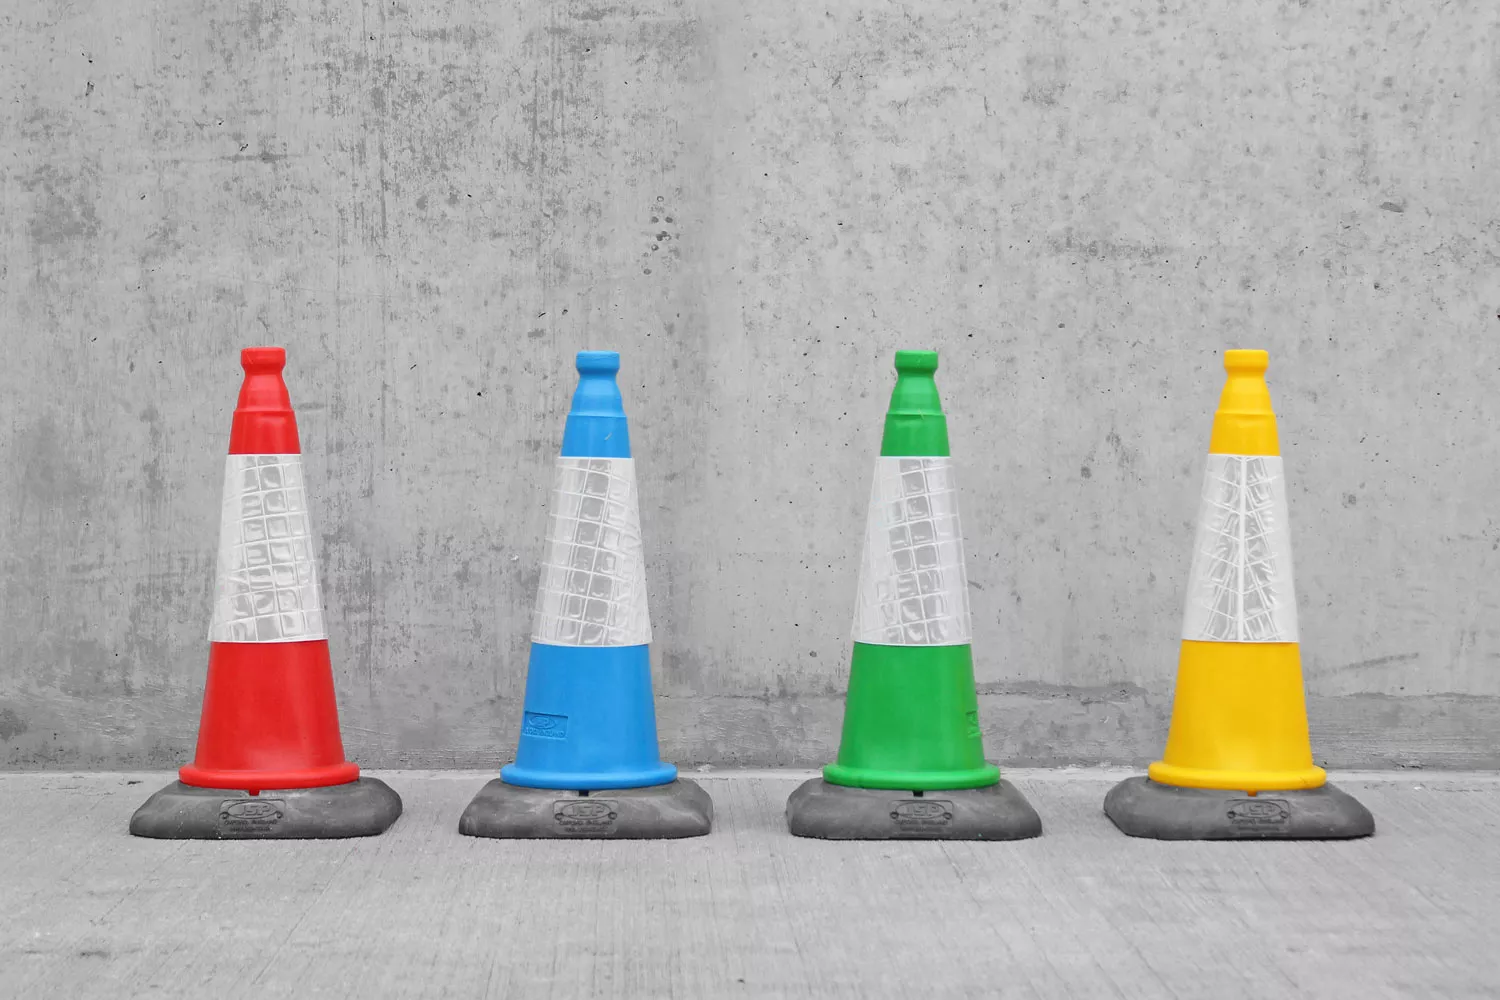cone: (128, 343, 407, 843), (1103, 345, 1377, 835), (454, 349, 720, 843), (787, 350, 1050, 839)
